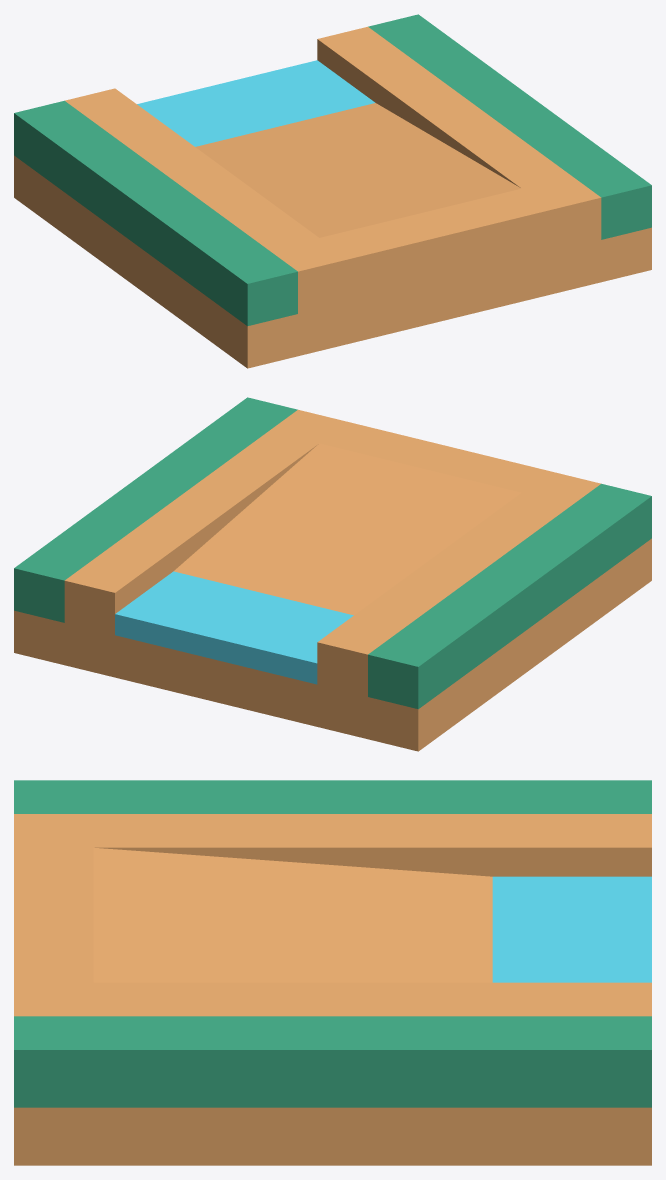
File: tile_riverTransition.dae
The picture shows the model from 3 angles, top to bottom: view 1: azimuth 30°, elevation 25°; view 2: azimuth 150°, elevation 25°; view 3: azimuth 270°, elevation 25°; orthographic projection. The views are drawn at different scales.
Parts seen in each view (by area): view 1: tile_riverTransition; view 2: tile_riverTransition; view 3: tile_riverTransition.
Part boxes in pixels (bbox=[...]): tile_riverTransition: bbox=[14, 14, 651, 368]; tile_riverTransition: bbox=[14, 397, 651, 751]; tile_riverTransition: bbox=[14, 780, 651, 1165].
Bounding box in the file's own units: 1 × 0.2 × 1.
